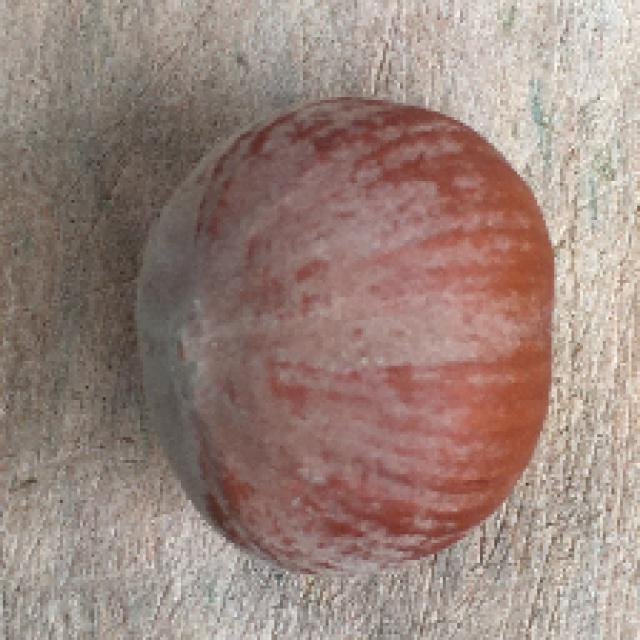qualityHazelnut: (130, 93, 560, 571)
